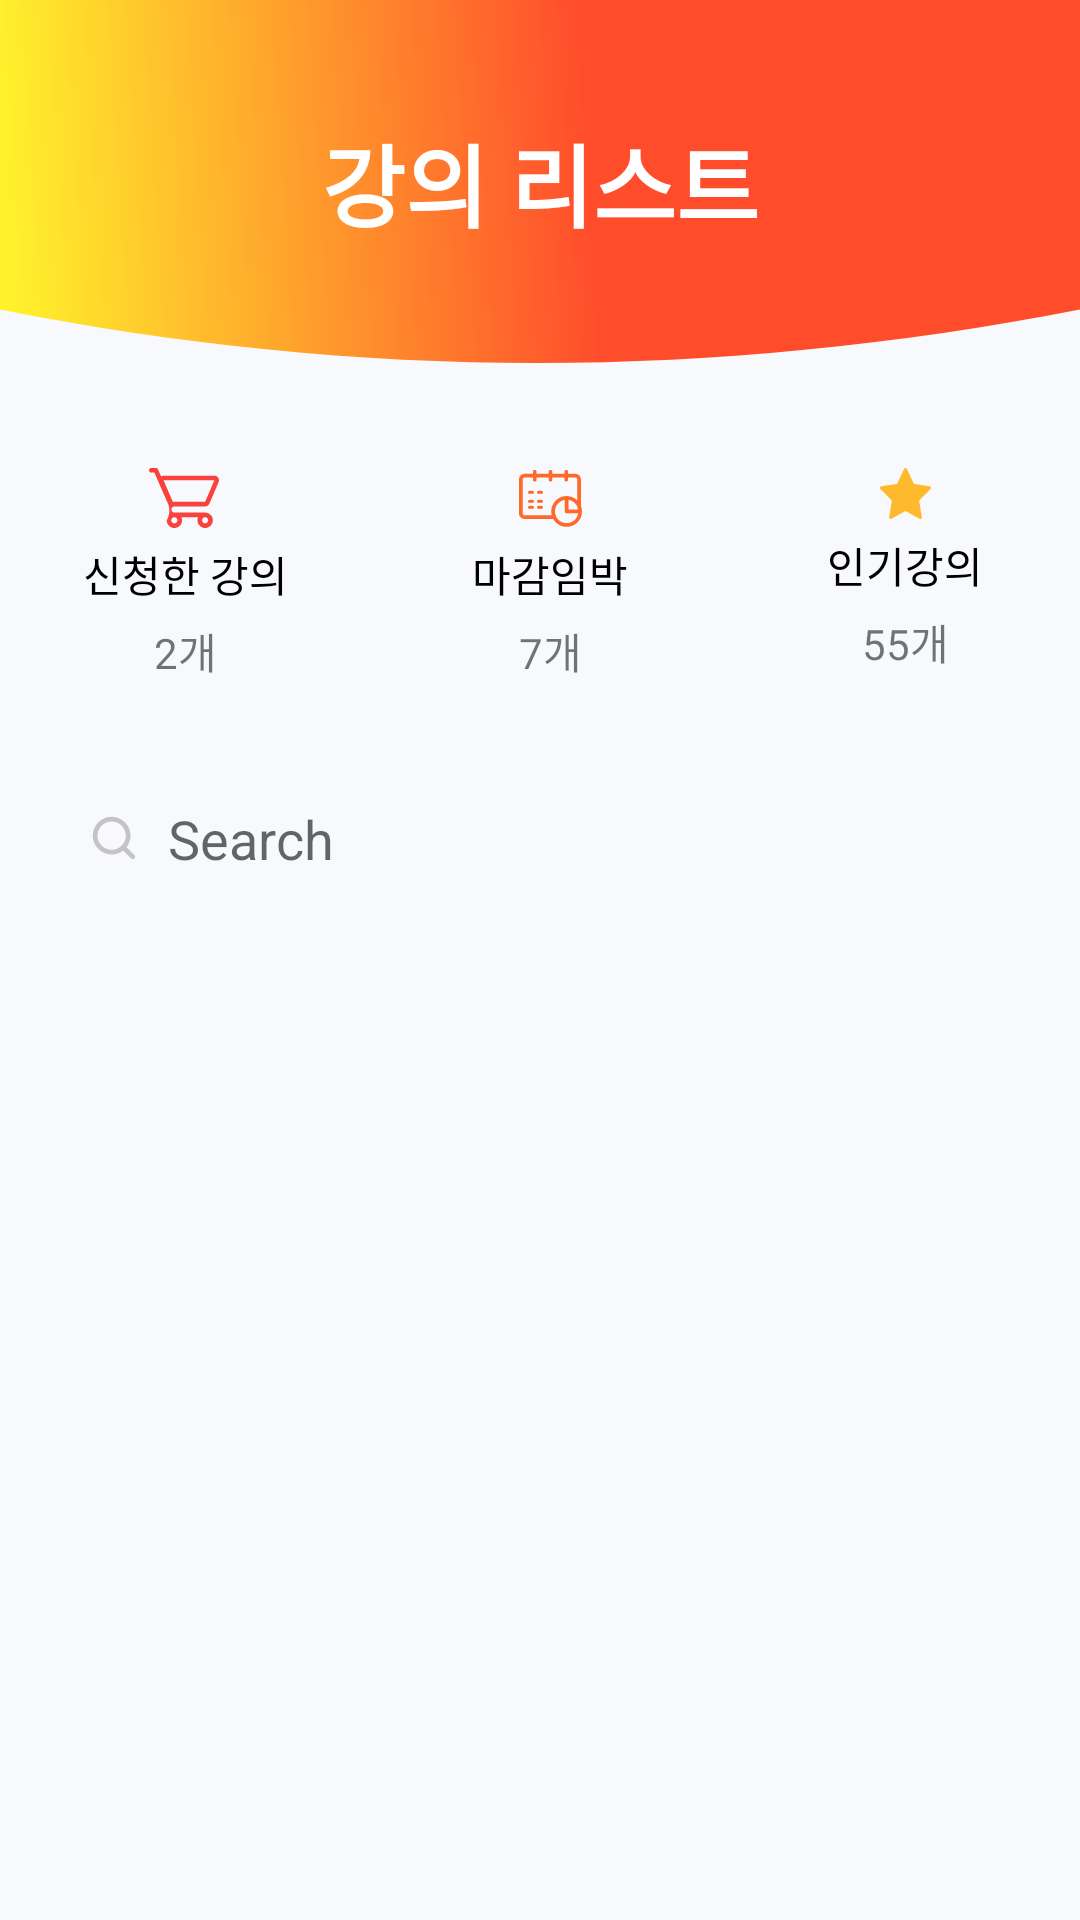

Icons on this 1080 x 1920 Android screen, each with its box as (x1, y1, x2, y2):
calendar: (519, 470, 582, 527)
shopping: (149, 468, 219, 528)
star: (880, 468, 931, 519)
